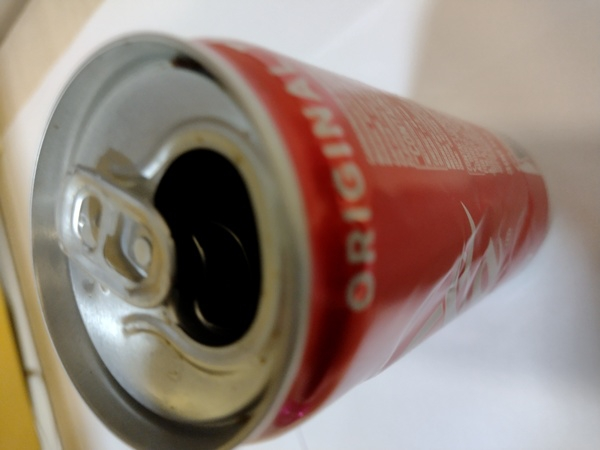can: (20, 24, 553, 448)
